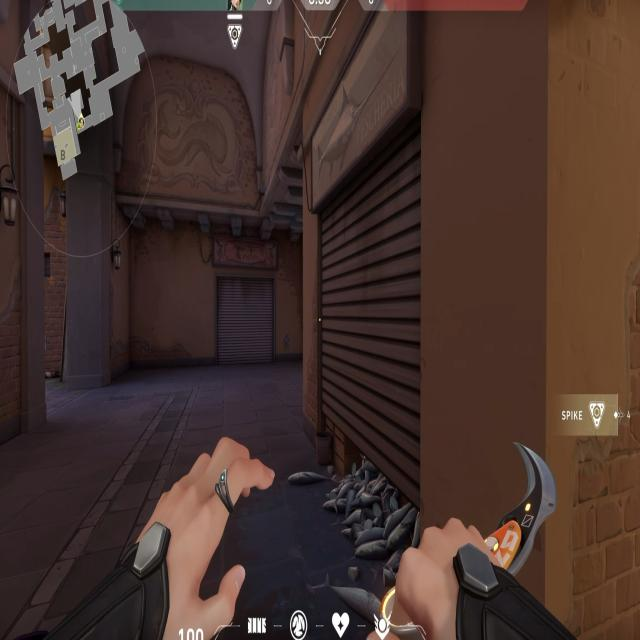B_Main_Corner: (296, 1, 428, 545)
